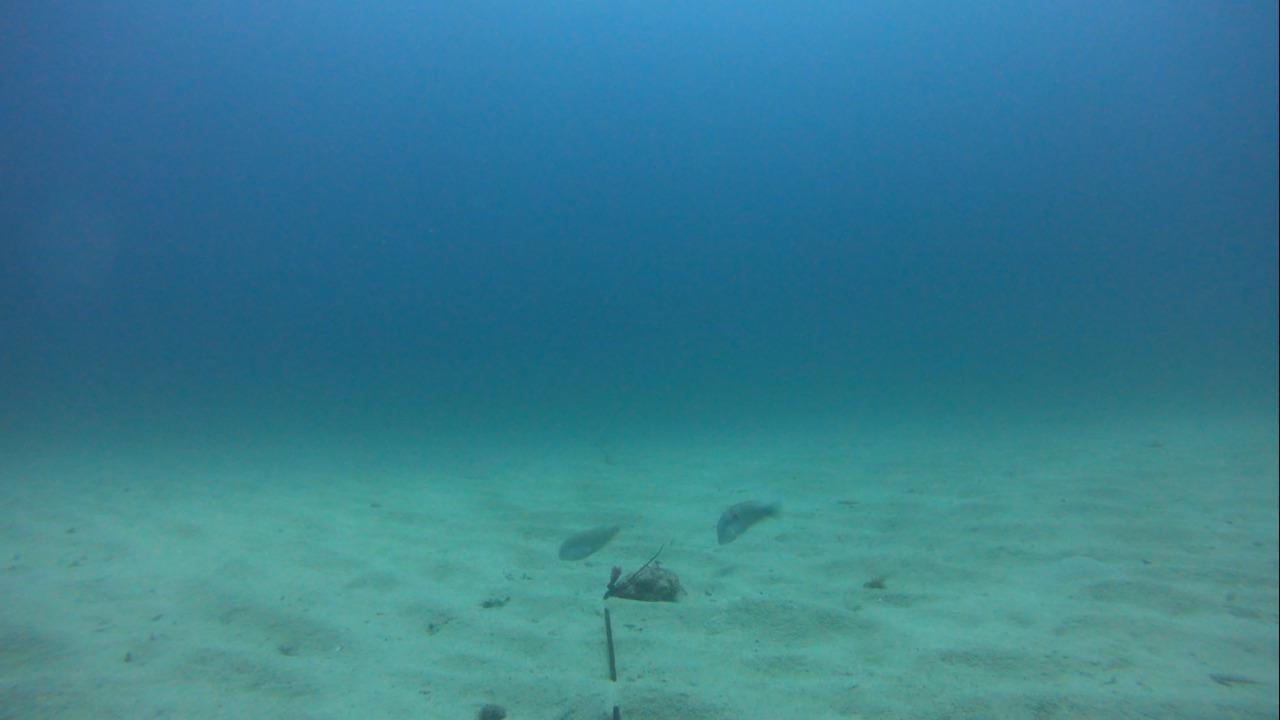raor: (554, 520, 628, 567), (713, 495, 777, 547)
